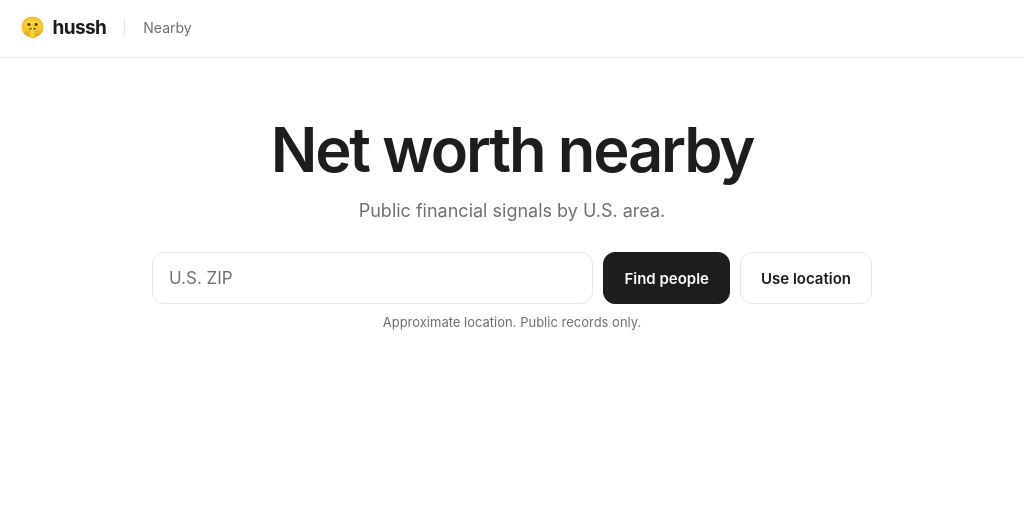
NearbyPeople v4 › distinguishes discovered people from eligible NWS results
Type "98033" into the field named "U.S. ZIP code".
click(373, 278); type("98033")  # box [152,252,593,304]
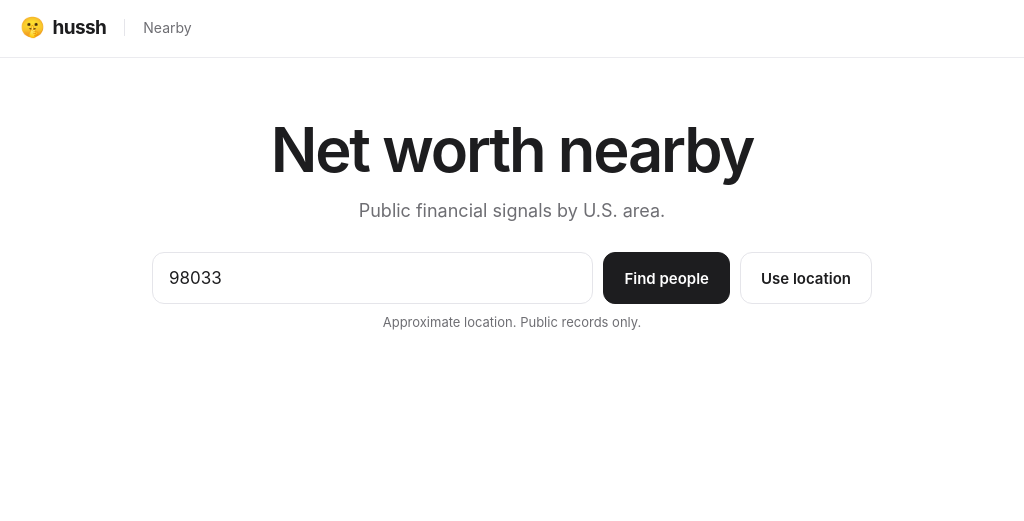
Click the button "Find people".
click(667, 278)  # box [603,252,730,304]
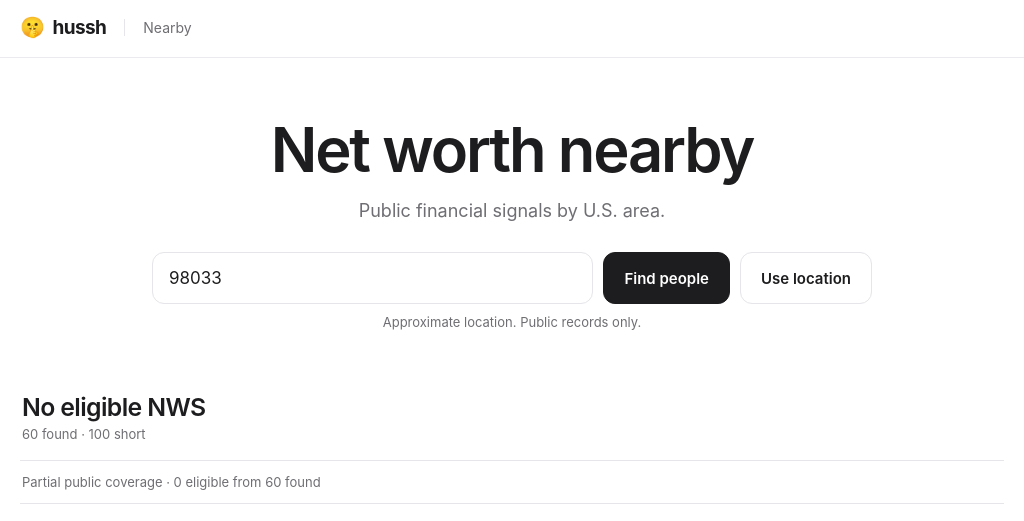
Expected: the heading "No eligible NWS" is shown, [22,392,206,422]
Expected: the text "60 found · 100 short" is shown, [22,426,146,442]
Expected: the text "Partial public coverage · 0 eligible from 60 found" is shown, [20,461,1004,504]
